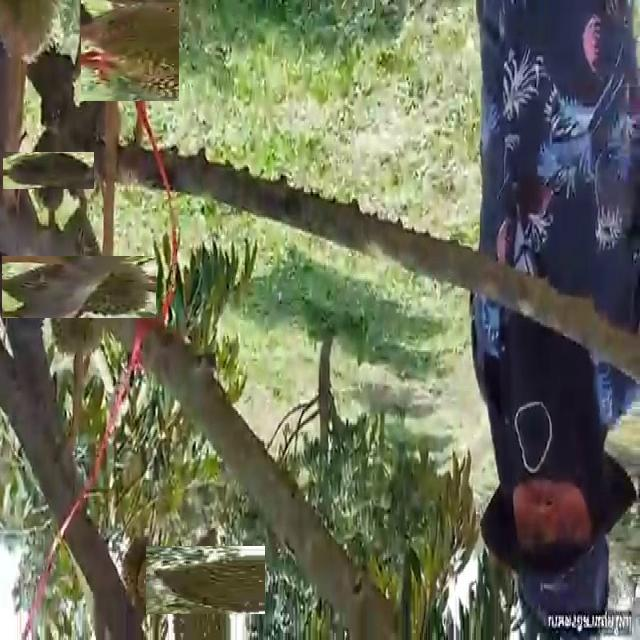durian: (24, 232, 133, 341), (80, 1, 180, 101), (158, 533, 252, 627), (17, 138, 81, 203)
